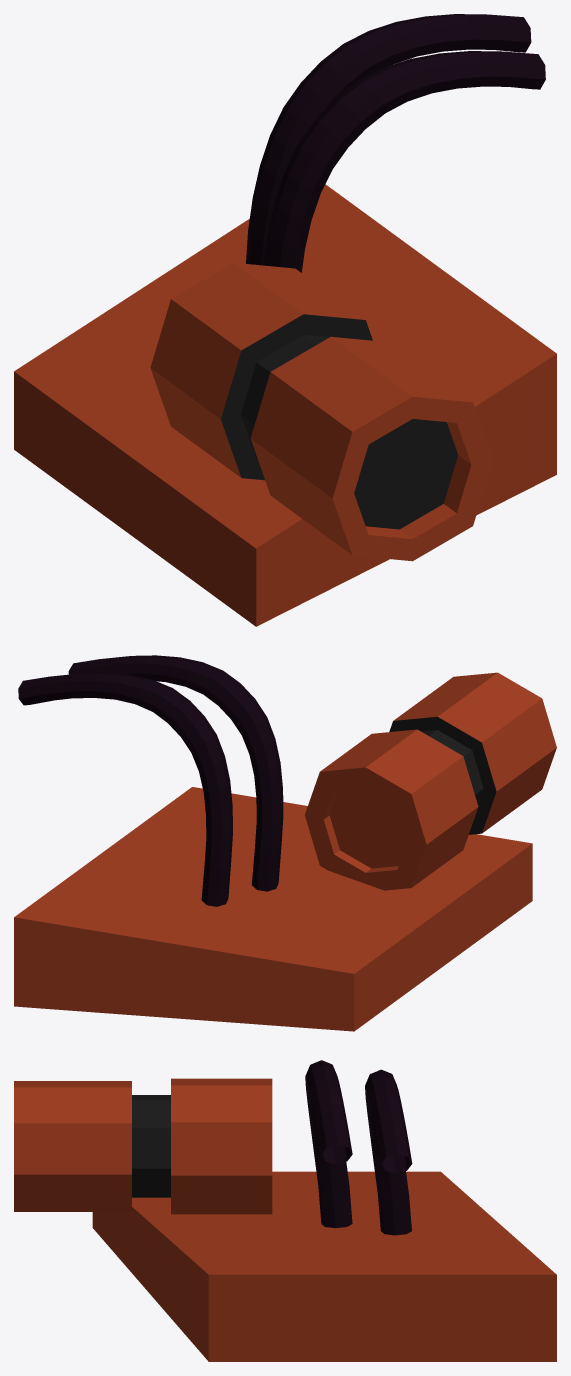
The model's file is czesc_8.fbx.
3 renders of one model, top to bottom at view 1: azimuth 30°, elevation 25°; view 2: azimuth 150°, elevation 25°; view 3: azimuth 270°, elevation 25°, orthographic. The views are drawn at different scales.
Visible parts, largest first — view 1: Circle.002; view 2: Circle.002; view 3: Circle.002.
Part boxes in pixels (bbox=[...]): Circle.002: bbox=[14, 14, 556, 626]; Circle.002: bbox=[14, 655, 556, 1031]; Circle.002: bbox=[14, 1060, 556, 1361].
Size of the model in its own units: 267 by 196 by 364.
